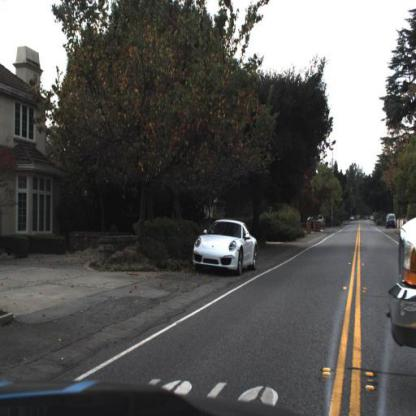car: (190, 218, 261, 278), (384, 209, 398, 232)
